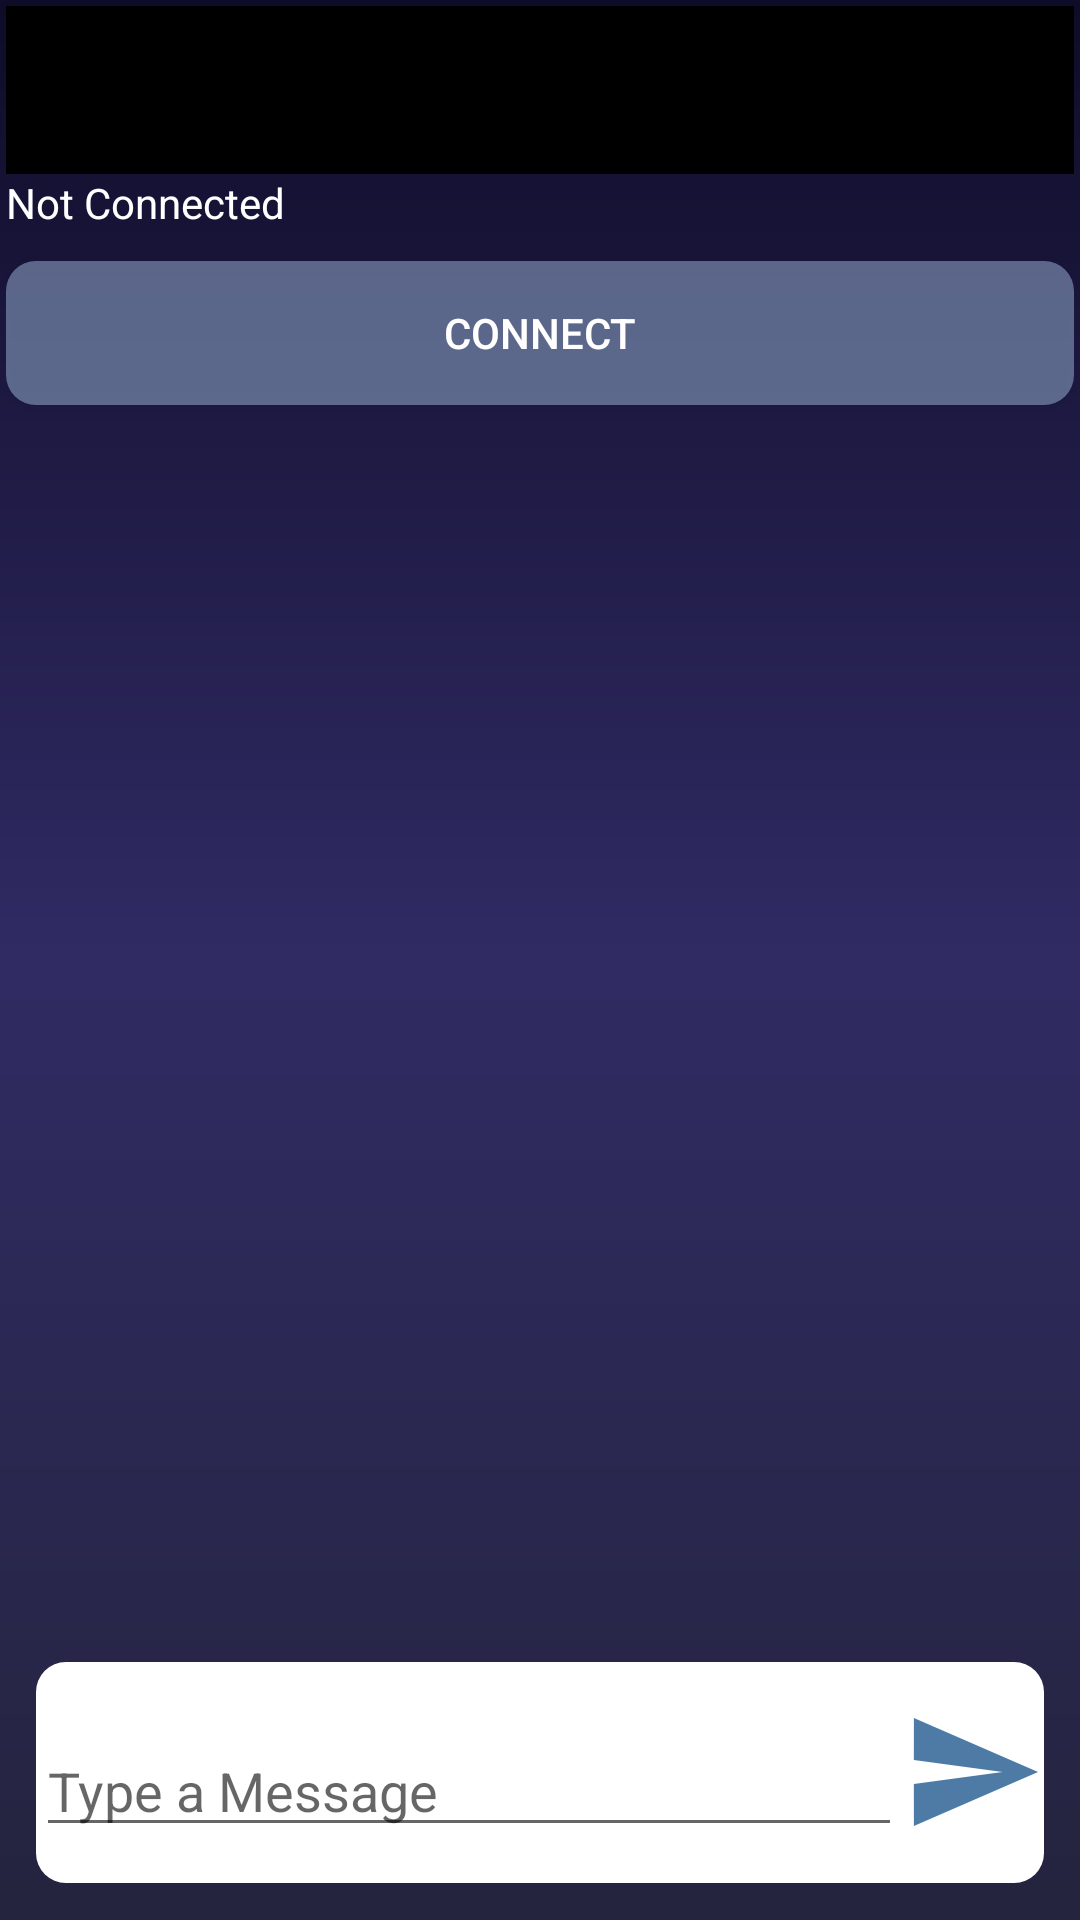

Where to tap for icons on this 1080*1920 app screen, as point (x, y):
send: point (975, 1772)
